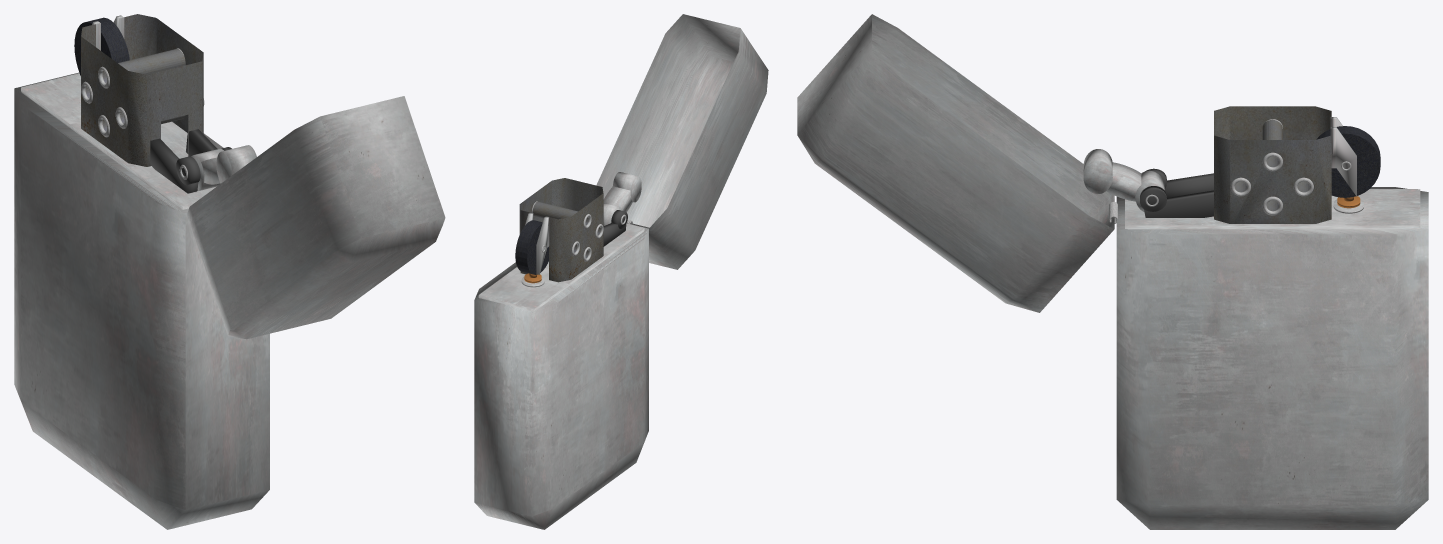
File: zippo_lighter.glb
The picture shows the model from 3 angles, left to right: view 1: azimuth 30°, elevation 25°; view 2: azimuth 150°, elevation 25°; view 3: azimuth 270°, elevation 25°; orthographic projection. The views are drawn at different scales.
Parts seen in each view (by area): view 1: Cube_0, Cube.001_1, Cube.003_19, Cube.002_18, Cylinder.009_34, Torus.025_33, Cylinder.001_20, Cube.004_32; view 2: Cube_0, Cube.001_1, Cube.003_19, Cube.002_18, Cylinder.009_34, Cylinder.001_20, Torus.025_33, Cube.006_36; view 3: Cube_0, Cube.001_1, Cube.003_19, Cube.002_18, Cylinder.009_34, Cylinder.001_20, Cube.004_32, Cube.005_35, Torus.025_33.
Part boxes in pixels (box(x1,y1,x2,y2)): Cube_0: box(14, 72, 269, 529); Cube.001_1: box(187, 96, 445, 339); Cube.003_19: box(81, 14, 203, 166); Cube.002_18: box(21, 73, 215, 209); Cylinder.009_34: box(191, 145, 256, 190); Torus.025_33: box(150, 138, 200, 193); Cylinder.001_20: box(74, 17, 129, 75); Cube.004_32: box(186, 129, 231, 156); Cube_0: box(474, 223, 648, 529); Cube.001_1: box(596, 14, 768, 269); Cube.003_19: box(519, 178, 603, 282); Cube.002_18: box(478, 223, 644, 311); Cylinder.009_34: box(603, 172, 641, 225); Cylinder.001_20: box(515, 220, 548, 274); Torus.025_33: box(603, 210, 627, 246); Cube.006_36: box(536, 216, 549, 274); Cube_0: box(1116, 187, 1428, 529); Cube.001_1: box(797, 14, 1114, 312); Cube.003_19: box(1214, 106, 1331, 223); Cube.002_18: box(1125, 189, 1420, 229); Cylinder.009_34: box(1083, 149, 1164, 212); Cylinder.001_20: box(1316, 126, 1380, 197); Cube.004_32: box(1140, 186, 1213, 217); Cube.005_35: box(1330, 127, 1356, 196); Torus.025_33: box(1145, 168, 1213, 197).
Bounding box in the file's own units: 0.7242 × 3.38 × 4.05.
Materials: 36 (34 with a texture image).
